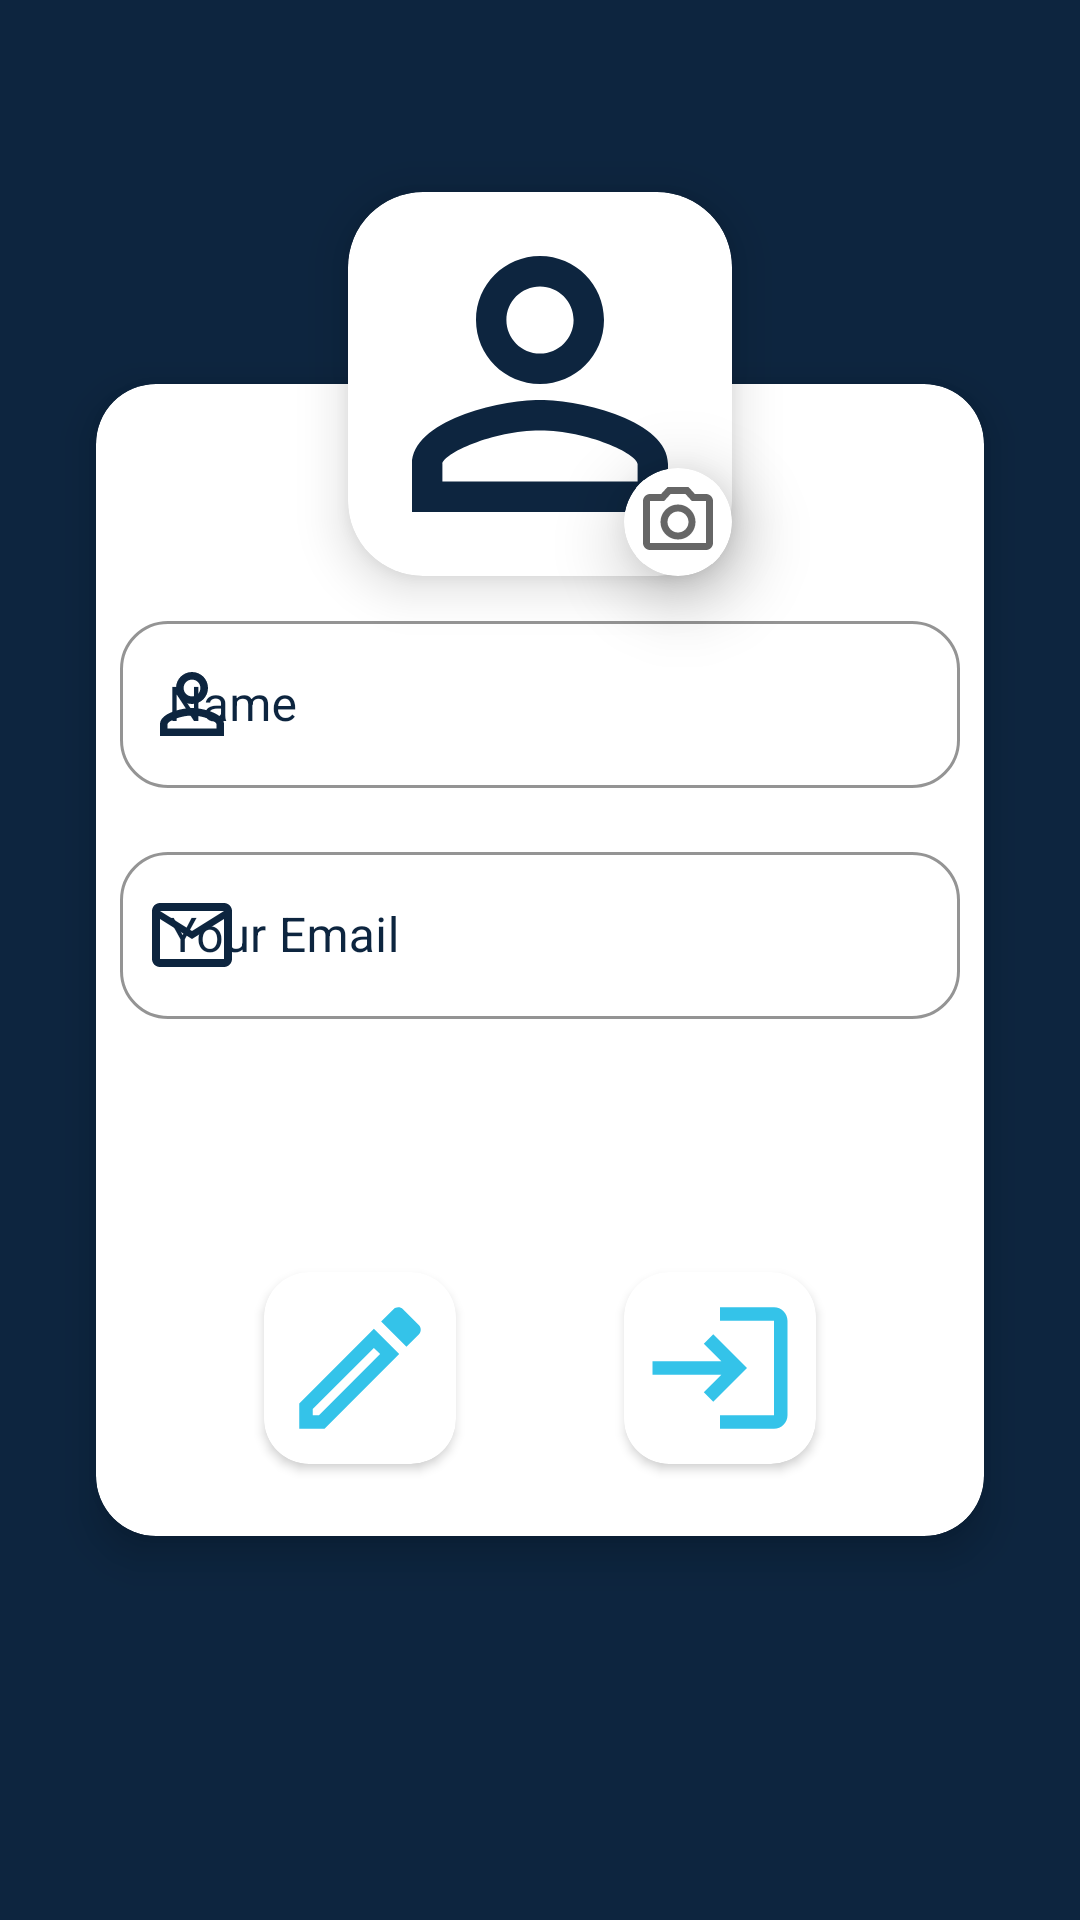

Where icons sit on this 1080px x 1920px app screen, as (x1, y1, x2, y2):
edit: (265, 1307, 449, 1464)
